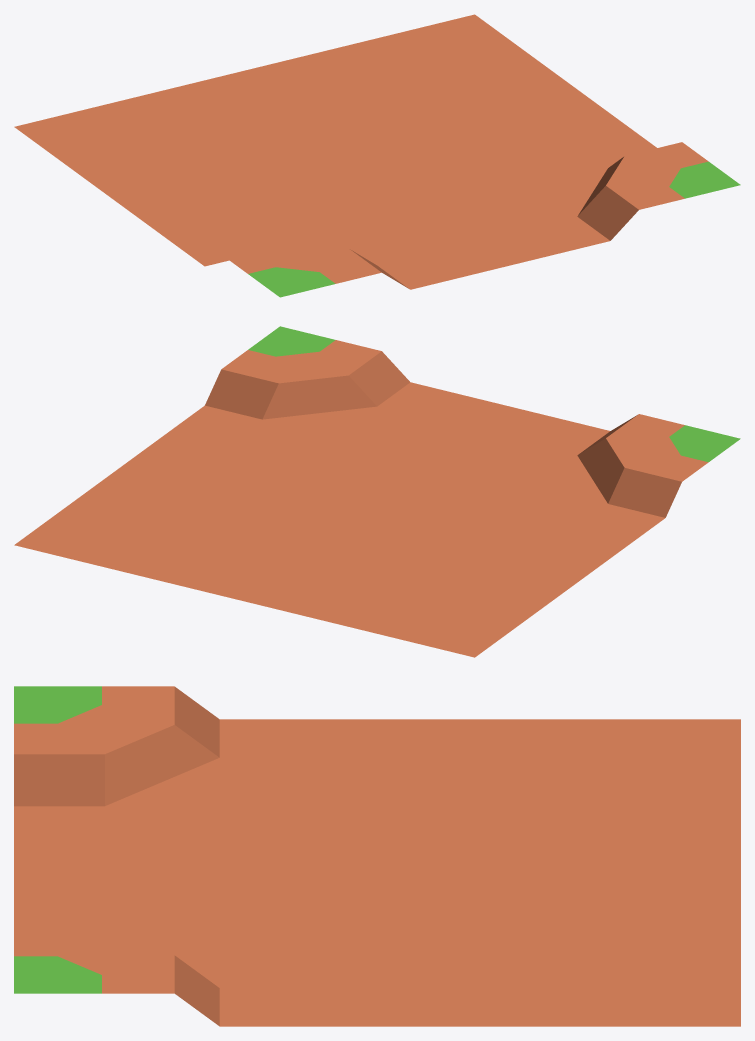
The model's file is ground_pathSideOpen.glb.
3 renders of one model, top to bottom at view 1: azimuth 30°, elevation 25°; view 2: azimuth 150°, elevation 25°; view 3: azimuth 270°, elevation 25°, orthographic. The views are drawn at different scales.
Parts seen in each view (by area): view 1: ground_pathSideOpen; view 2: ground_pathSideOpen; view 3: ground_pathSideOpen.
Part boxes in pixels (left/top/right/bottom): ground_pathSideOpen: left=14, top=14, right=740, bottom=297; ground_pathSideOpen: left=14, top=326, right=740, bottom=657; ground_pathSideOpen: left=14, top=686, right=740, bottom=1026.
Bounding box in the file's own units: 1 × 0.05 × 1.
